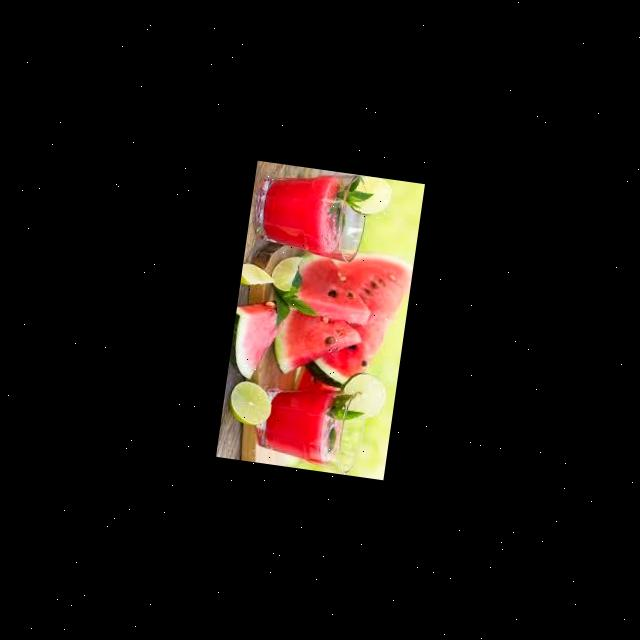watermelon: (305, 245, 414, 396), (268, 304, 366, 384), (290, 247, 378, 324), (226, 296, 288, 384)
